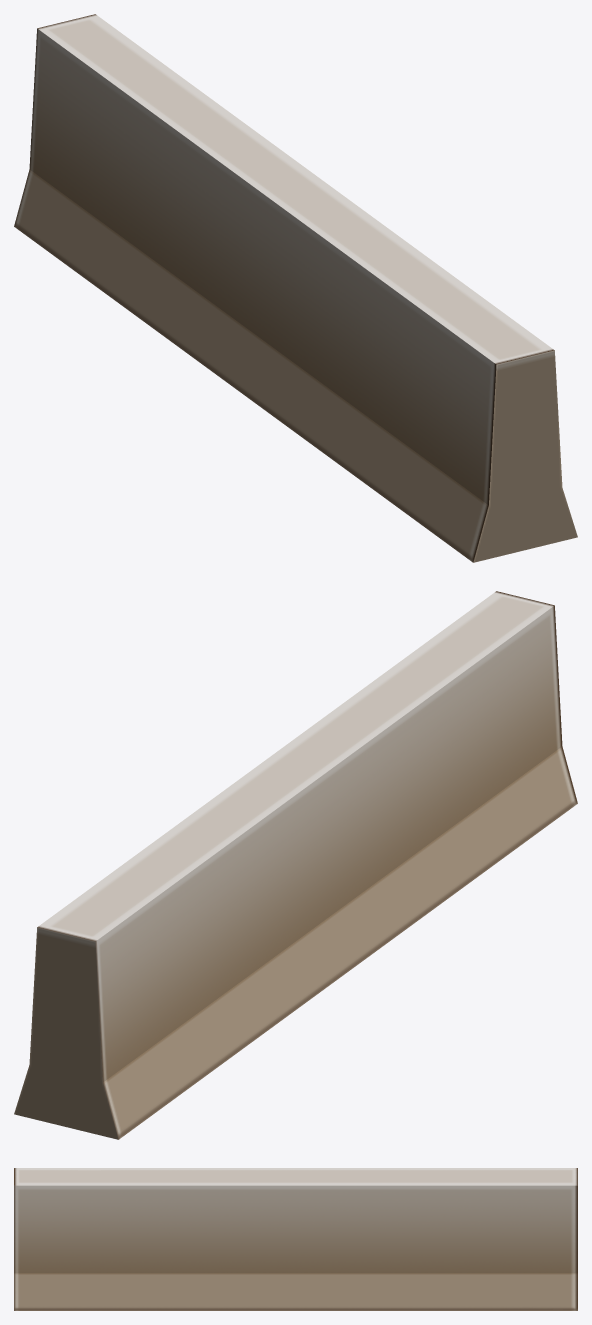
File: Barrier_02.fbx
The picture shows the model from 3 angles, top to bottom: view 1: azimuth 30°, elevation 25°; view 2: azimuth 150°, elevation 25°; view 3: azimuth 270°, elevation 25°; orthographic projection. The views are drawn at different scales.
Parts seen in each view (by area): view 1: Cube.002; view 2: Cube.002; view 3: Cube.002.
Part boxes in pixels (bbox=[...]): Cube.002: bbox=[14, 14, 577, 562]; Cube.002: bbox=[14, 591, 577, 1139]; Cube.002: bbox=[14, 1168, 577, 1310].
Size of the model in its own units: 52.6 by 92.54 by 400.
